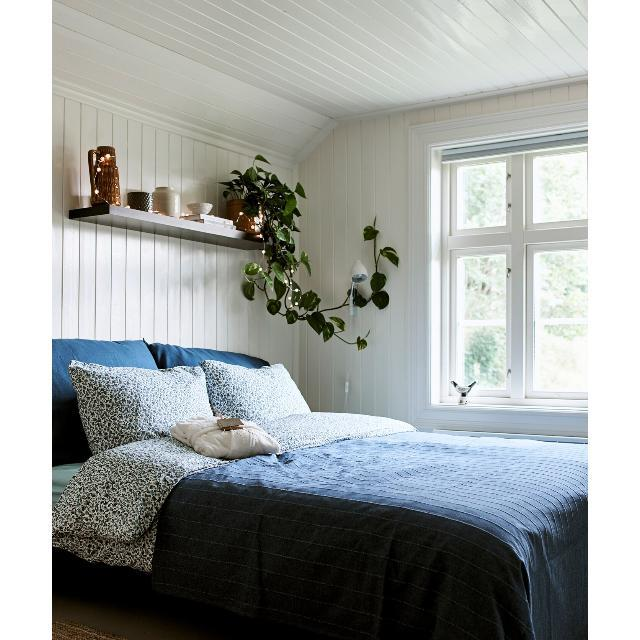pillow: (68, 362, 214, 458), (205, 360, 316, 427)
